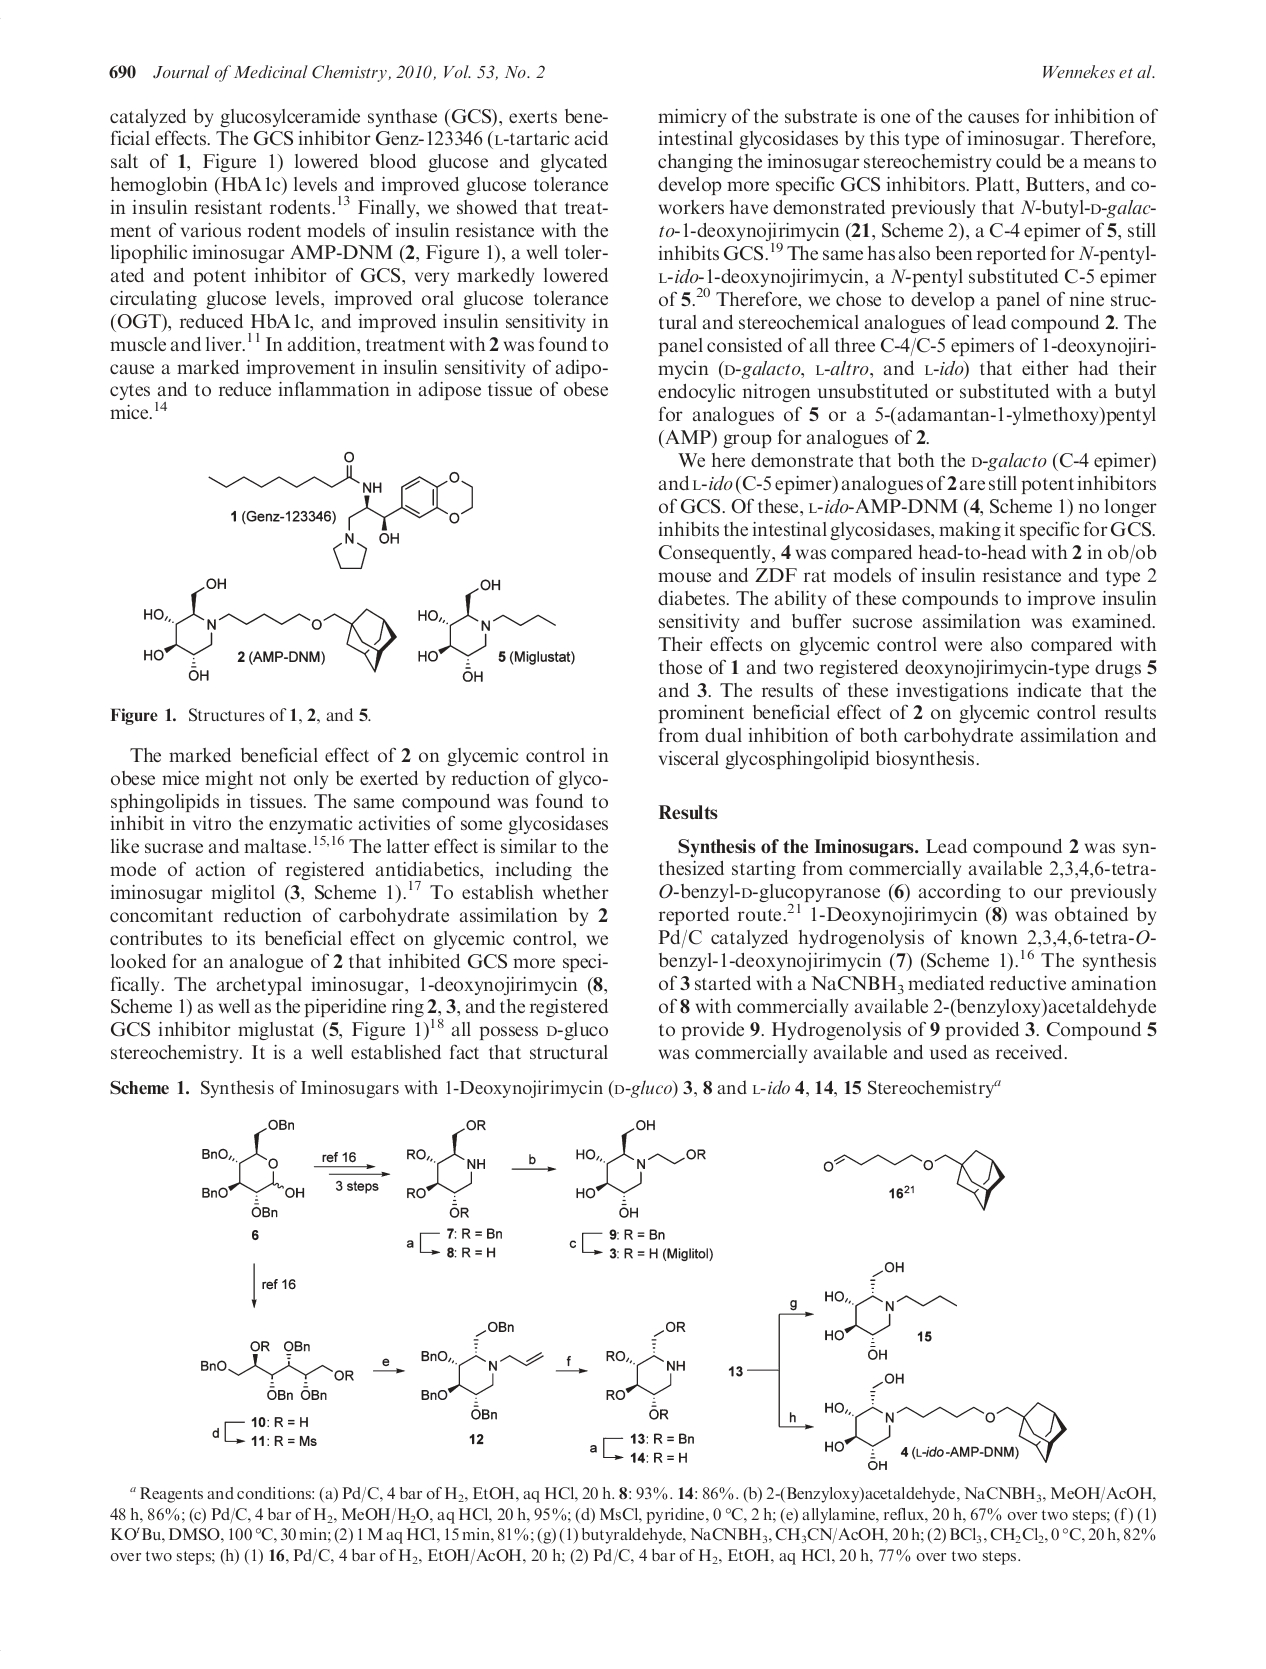exist_molecular: (207, 449, 475, 571), (144, 577, 400, 682), (823, 1371, 1068, 1474), (415, 577, 559, 684), (822, 1259, 959, 1364), (573, 1118, 707, 1220), (418, 1319, 547, 1422), (822, 1146, 1007, 1212), (199, 1118, 306, 1220), (198, 1339, 355, 1402), (404, 1116, 488, 1220), (604, 1319, 689, 1420)
